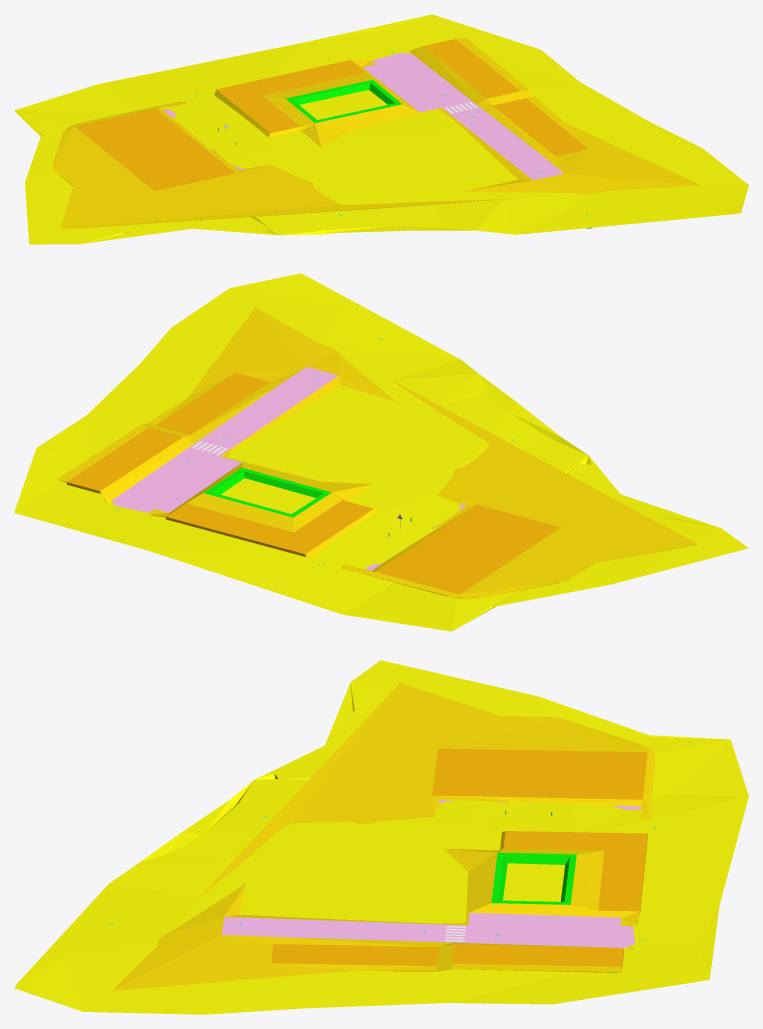
The picture shows the model from 3 angles, top to bottom: view 1: azimuth 30°, elevation 25°; view 2: azimuth 150°, elevation 25°; view 3: azimuth 270°, elevation 25°; orthographic projection. The views are drawn at different scales.
Visible parts, largest first — view 1: pMS3qUTnJrAjMoN7p$33EB, pMS3qUTnJrAjMoN7p$3614, pMS3qUTnJrAjMoN7p$360D, pMS3qUTnJrAjMoN7p$3644, pMS3qUTnJrAjMoN7p$3616, pMS3qUTnJrAjMoN7p$360F, pMS3qUTnJrAjMoN7p$364A, pMS3qUTnJrAjMoN7p$3611, pMS3qUTnJrAjMoN7p$3612, pMS3qUTnJrAjMoN7p$364B, pMS3qUTnJrAjMoN7p$3649, pMS3qUTnJrAjMoN7p$3646; view 2: pMS3qUTnJrAjMoN7p$33EB, pMS3qUTnJrAjMoN7p$3614, pMS3qUTnJrAjMoN7p$360D, pMS3qUTnJrAjMoN7p$3644, pMS3qUTnJrAjMoN7p$3616, pMS3qUTnJrAjMoN7p$360F, pMS3qUTnJrAjMoN7p$364A, pMS3qUTnJrAjMoN7p$3611, pMS3qUTnJrAjMoN7p$3612, pMS3qUTnJrAjMoN7p$364B, pMS3qUTnJrAjMoN7p$3646, pMS3qUTnJrAjMoN7p$3649; view 3: pMS3qUTnJrAjMoN7p$33EB, pMS3qUTnJrAjMoN7p$3614, pMS3qUTnJrAjMoN7p$360D, pMS3qUTnJrAjMoN7p$3644, pMS3qUTnJrAjMoN7p$3616, pMS3qUTnJrAjMoN7p$360F, pMS3qUTnJrAjMoN7p$364A, pMS3qUTnJrAjMoN7p$3611, pMS3qUTnJrAjMoN7p$3612, pMS3qUTnJrAjMoN7p$3646, pMS3qUTnJrAjMoN7p$364B, pMS3qUTnJrAjMoN7p$3648 (+1 smaller).
Part boxes in pixels (x1,y1,x2,y2): pMS3qUTnJrAjMoN7p$33EB: (14,14,748,244); pMS3qUTnJrAjMoN7p$3614: (52,101,582,228); pMS3qUTnJrAjMoN7p$360D: (75,108,235,190); pMS3qUTnJrAjMoN7p$3644: (362,52,563,180); pMS3qUTnJrAjMoN7p$3616: (456,37,701,194); pMS3qUTnJrAjMoN7p$360F: (216,60,365,133); pMS3qUTnJrAjMoN7p$364A: (263,59,532,180); pMS3qUTnJrAjMoN7p$3611: (424,39,519,98); pMS3qUTnJrAjMoN7p$3612: (493,98,588,156); pMS3qUTnJrAjMoN7p$364B: (409,46,555,157); pMS3qUTnJrAjMoN7p$3649: (214,89,349,147); pMS3qUTnJrAjMoN7p$3646: (286,80,401,122); pMS3qUTnJrAjMoN7p$33EB: (14,273,748,631); pMS3qUTnJrAjMoN7p$3614: (307,351,697,598); pMS3qUTnJrAjMoN7p$360D: (375,504,560,594); pMS3qUTnJrAjMoN7p$3644: (112,366,338,512); pMS3qUTnJrAjMoN7p$3616: (57,307,337,482); pMS3qUTnJrAjMoN7p$360F: (166,500,373,556); pMS3qUTnJrAjMoN7p$364A: (148,376,340,532); pMS3qUTnJrAjMoN7p$3611: (67,428,182,493); pMS3qUTnJrAjMoN7p$3612: (156,372,269,434); pMS3qUTnJrAjMoN7p$364B: (100,382,280,503); pMS3qUTnJrAjMoN7p$3646: (204,468,331,517); pMS3qUTnJrAjMoN7p$3649: (293,481,378,557); pMS3qUTnJrAjMoN7p$33EB: (14,660,748,1014); pMS3qUTnJrAjMoN7p$3614: (164,683,655,934); pMS3qUTnJrAjMoN7p$360D: (432,748,647,799); pMS3qUTnJrAjMoN7p$3644: (221,912,635,947); pMS3qUTnJrAjMoN7p$3616: (112,934,621,990); pMS3qUTnJrAjMoN7p$360F: (503,831,647,913); pMS3qUTnJrAjMoN7p$364A: (225,850,639,926); pMS3qUTnJrAjMoN7p$3611: (451,944,623,969); pMS3qUTnJrAjMoN7p$3612: (271,944,439,966); pMS3qUTnJrAjMoN7p$3646: (491,852,576,904); pMS3qUTnJrAjMoN7p$364B: (273,937,633,966); pMS3qUTnJrAjMoN7p$3648: (433,795,642,806).
Size of the model in its own units: 130 by 6.48 by 113.
